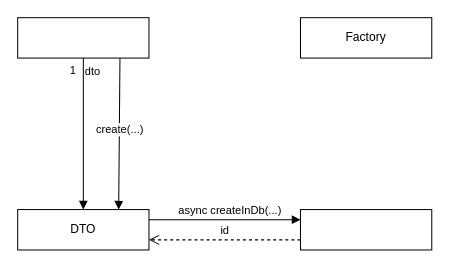
This 449x268 diagram has some shape labels left out. Here are the shapes that lost their labels. From the top down, the box of each, then its label:
(17, 17, 149, 58): Record
(299, 209, 432, 250): Connector
